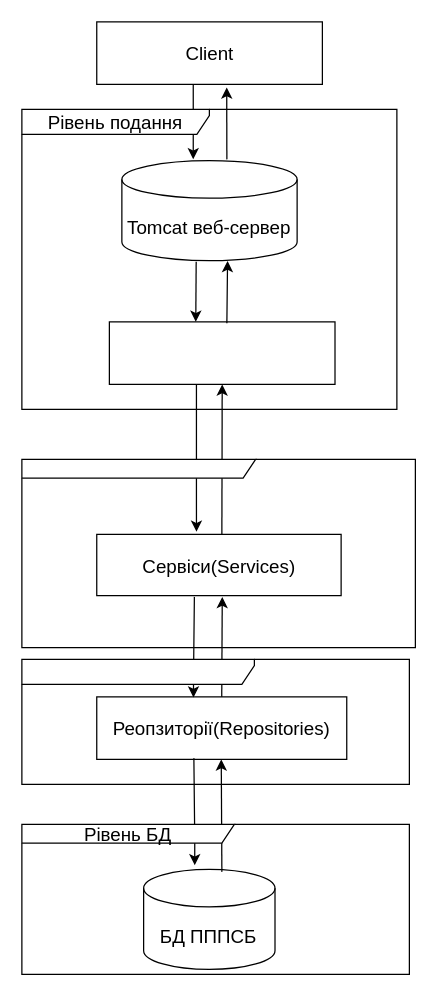
Some shapes in this 438 by 996 pixel diagram are drawn without their labels. Here are the shapes that lost their labels. From the top down, the centre of each, then its label:
At point 221,352: "Котроллери(Controllers)".
At point 218,553: "Рівнеь бізнес-логіки".
At point 215,721: "Рівень зберігання даних".
